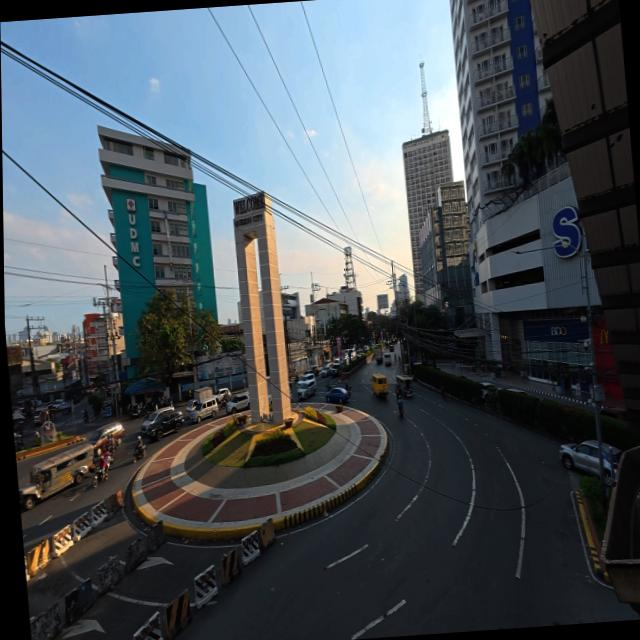Jeepneys: (19, 444, 93, 509), (396, 374, 413, 396)
car: (560, 440, 600, 476), (89, 422, 124, 456), (147, 411, 184, 440), (188, 397, 219, 423), (141, 408, 173, 433), (224, 391, 251, 414), (326, 387, 350, 404), (298, 378, 316, 400), (601, 407, 627, 421), (481, 382, 498, 400), (215, 388, 231, 404), (34, 408, 48, 424), (508, 387, 530, 396), (307, 365, 320, 377), (301, 372, 316, 381), (53, 399, 65, 409), (321, 366, 331, 377), (330, 365, 340, 376), (389, 344, 394, 352)
motorcycle: (90, 465, 108, 488), (133, 439, 146, 462), (130, 405, 143, 419), (84, 413, 89, 424), (399, 404, 403, 417)
trucks: (186, 387, 212, 417), (375, 345, 382, 364)
vans: (373, 374, 389, 398)
